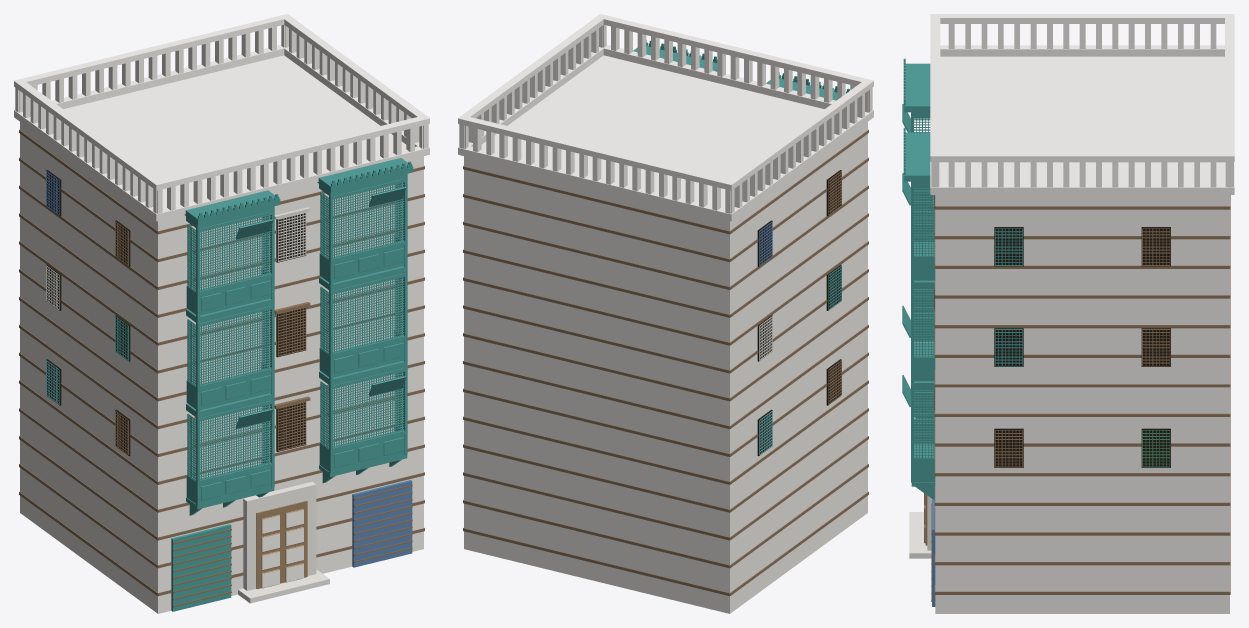
File: SM_HijaziHouse_01.fbx
3 renders of one model, left to right at view 1: azimuth 30°, elevation 25°; view 2: azimuth 150°, elevation 25°; view 3: azimuth 270°, elevation 25°, orthographic. The views are drawn at different scales.
Visible parts, largest first — view 1: SM_HijaziHouse_01; view 2: SM_HijaziHouse_01; view 3: SM_HijaziHouse_01.
Boxes of the visible parts, x1,y1,x2,y2 form: SM_HijaziHouse_01: [14, 14, 429, 613]; SM_HijaziHouse_01: [458, 14, 873, 613]; SM_HijaziHouse_01: [902, 14, 1234, 613].
Size of the model in its own units: 1030 by 1550 by 1016.
